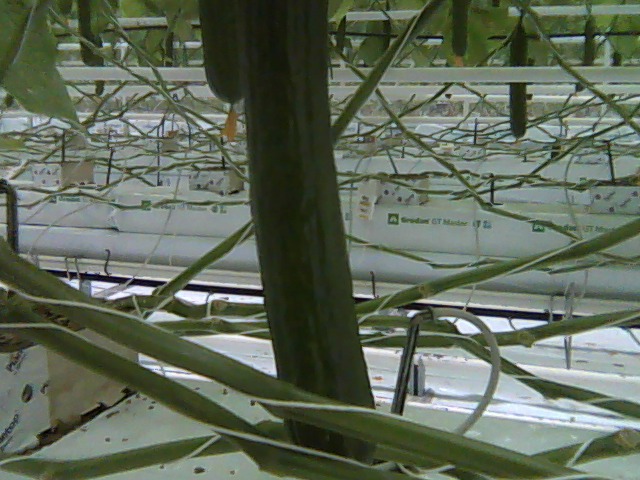concombre: (239, 1, 380, 480)
